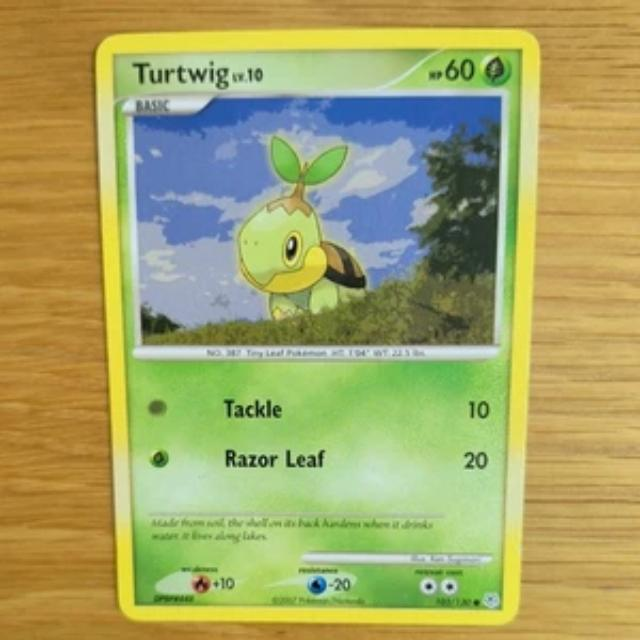Card: (90, 23, 543, 629)
Name: (125, 56, 234, 93)
